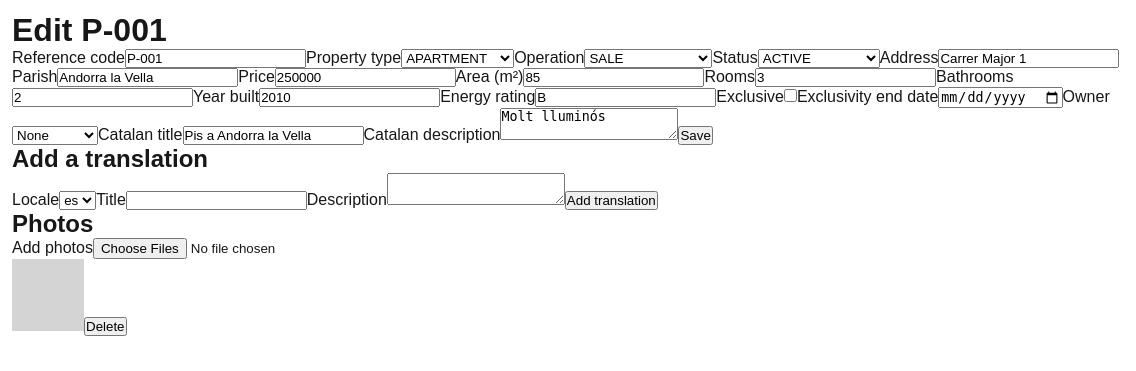
Test case: Edit listing page › submits only the changed fields and shows a saved confirmation
This screenshot has width=1136, height=371.
Expected: the field labelled "Reference code" holds "P-001", [125,49,306,68]
Replace the text in the number field labelled "Price" with "260000". click: (365, 78)
box: [275,68,456,87]
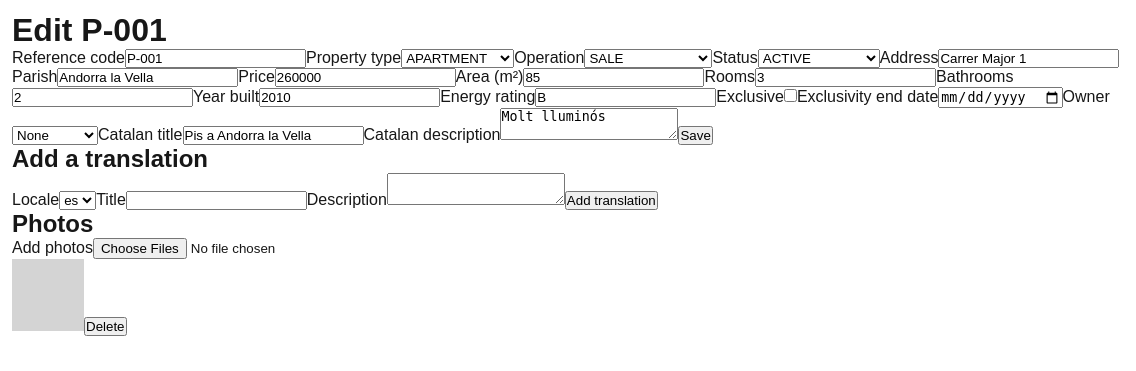
Click the button "Save". click: (696, 136)
box: [678,126,713,145]
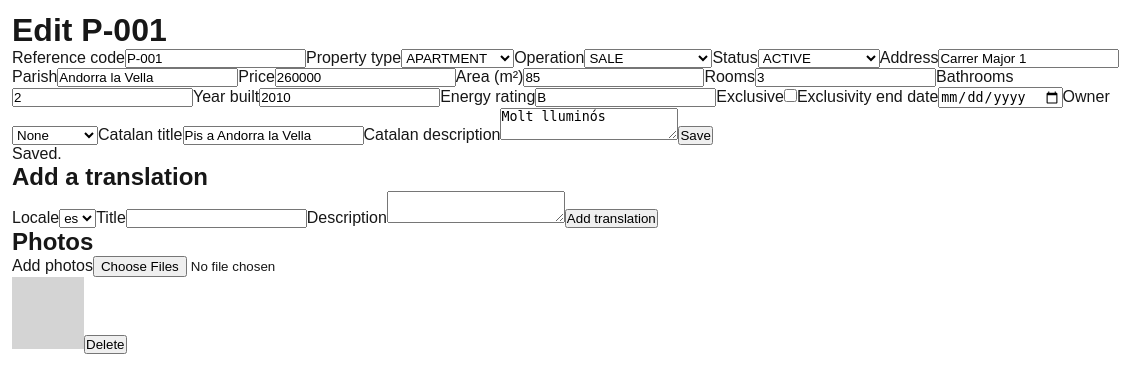
Now the text "Saved." is shown, box [12,145,62,162]
